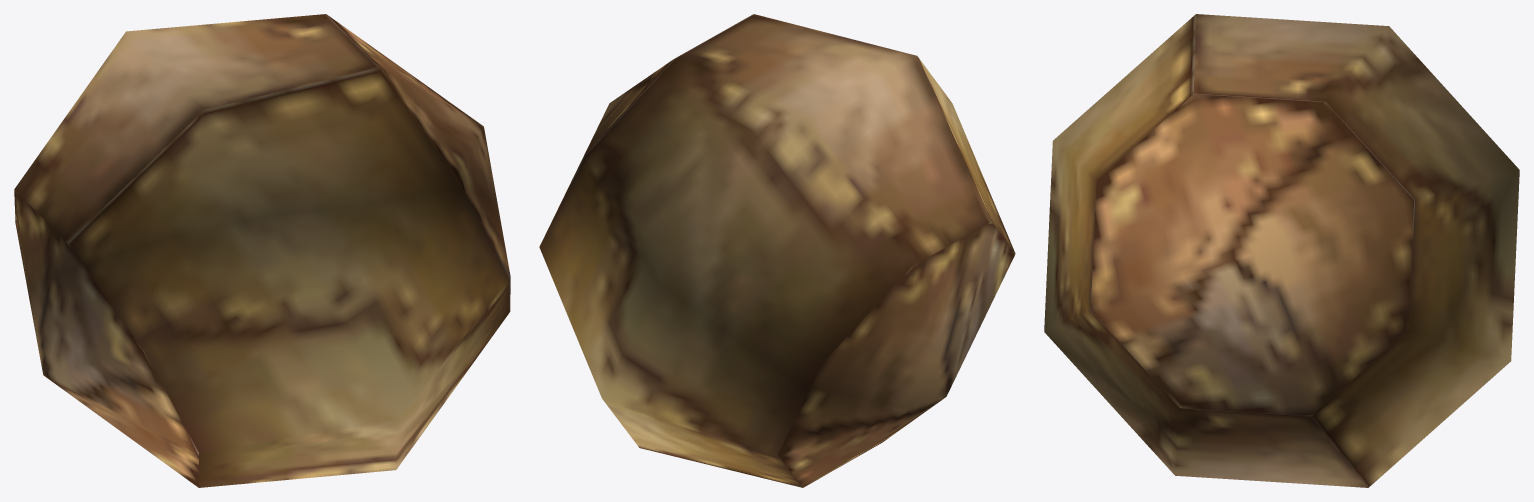
Rendered from taurenleatherball.obj.
3 views of the same model, side by side, from view 1: azimuth 30°, elevation 25°; view 2: azimuth 150°, elevation 25°; view 3: azimuth 270°, elevation 25° (orthographic). The views are drawn at different scales.
Parts seen in each view (by area): view 1: TAURENLEATHERBALL0; view 2: TAURENLEATHERBALL0; view 3: TAURENLEATHERBALL0.
Part boxes in pixels (x1,y1,x2,y2): TAURENLEATHERBALL0: (14, 14, 510, 487); TAURENLEATHERBALL0: (539, 14, 1015, 487); TAURENLEATHERBALL0: (1044, 14, 1519, 487).
Bounding box in the file's own units: 0.5084 × 0.4619 × 0.5228.
1 material, 1 textured.
